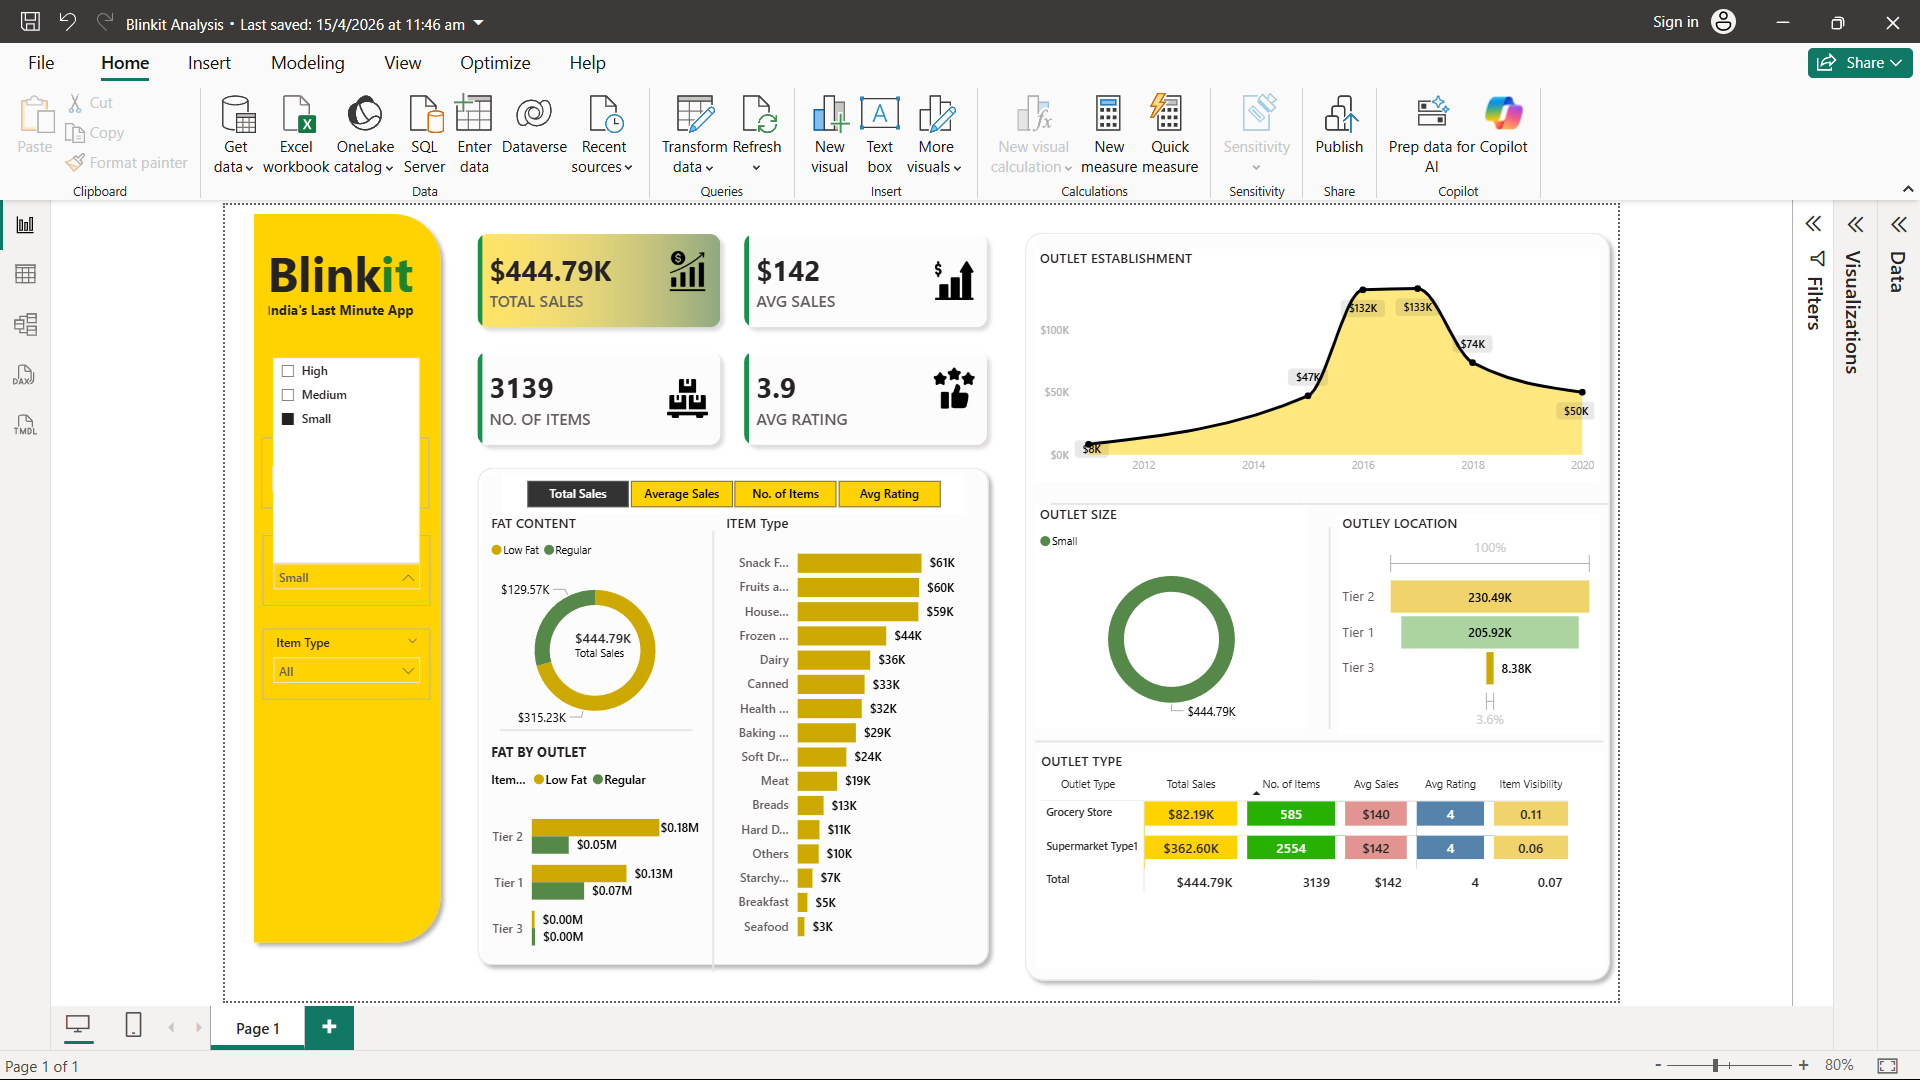

The page's visual inventory and layout, read from the dashboard file:
{"tool":"powerbi","page":{"name":"Page 1","canvas":[1400,800],"ordinal":0},"visuals":[{"type":"shape","box":[19.5,0,205.6,750.4],"z":0},{"type":"textbox","box":[37.5,30,169.6,78],"z":1000},{"type":"textbox","box":[37.5,91.6,169.6,30],"z":2000},{"type":"cardVisual","fields":{"Data":["BlinkIT Grocery Data.Total Sales","BlinkIT Grocery Data.Average Sales","BlinkIT Grocery Data.No. of Items","BlinkIT Grocery Data.Avg Rating"]},"box":[225.1,0,570.3,270.2],"z":3000},{"type":"shape","box":[244.6,255.1,531.3,517.8],"z":4000},{"type":"donutChart","title":"FAT CONTENT","fields":{"Y":["BlinkIT Grocery Data.Total Sales"],"Category":["BlinkIT Grocery Data.Item Fat Content"]},"box":[262.7,310.7,219.1,229.6],"z":5000},{"type":"slicer","fields":{"Values":["Metrics.Metrics"]},"box":[277.7,270.2,465.3,40.5],"z":6000},{"type":"cardVisual","fields":{"Data":["BlinkIT Grocery Data.Total Sales"]},"box":[322.7,400.7,120.1,81],"z":7000},{"type":"clusteredBarChart","title":"FAT BY OUTLET","fields":{"Y":["BlinkIT Grocery Data.Total Sales"],"Category":["BlinkIT Grocery Data.Outlet Location Type"],"Series":["BlinkIT Grocery Data.Item Fat Content"]},"box":[262.7,540.3,219.1,229.6],"z":8000},{"type":"shape","box":[276,515.1,193.3,25.4],"z":9000},{"type":"shape","box":[1072.1,290,16.5,225.1],"z":10000},{"type":"barChart","title":"ITEM Type","fields":{"Y":["BlinkIT Grocery Data.Total Sales"],"Category":["BlinkIT Grocery Data.Item Type"]},"box":[498.3,310.7,255.1,439.8],"z":11000},{"type":"shape","box":[794.9,19.1,605.4,769.4],"z":12000},{"type":"lineChart","title":"OUTLET ESTABLISHMENT","fields":{"Y":["BlinkIT Grocery Data.Total Sales"],"Category":["BlinkIT Grocery Data.Outlet Establishment Year"]},"box":[814,44.5,567.2,235.3],"z":13000},{"type":"shape","box":[814,527.8,571,22.9],"z":14000},{"type":"donutChart","title":"OUTLET SIZE","fields":{"Y":["BlinkIT Grocery Data.Total Sales"],"Category":["BlinkIT Grocery Data.Outlet Size"]},"box":[814,301.4,274.7,225.1],"z":15000},{"type":"shape","box":[1100.1,324.3,19.1,202.2],"z":16000},{"type":"shape","box":[482,328.1,16.5,442.6],"z":17000},{"type":"funnel","title":"OUTLEY LOCATION","fields":{"Y":["Sum(BlinkIT Grocery Data.Sales)"],"Category":["BlinkIT Grocery Data.Outlet Location Type"]},"box":[1117.9,310.3,263.3,221.3],"z":18000},{"type":"shape","box":[830.3,288.5,560.9,22.9],"z":19000},{"type":"pivotTable","title":"OUTLET TYPE","fields":{"Values":["BlinkIT Grocery Data.Total Sales","BlinkIT Grocery Data.No. of Items","BlinkIT Grocery Data.Average Sales","BlinkIT Grocery Data.Avg Rating","Avg(BlinkIT Grocery Data.Item Visibility)"],"Rows":["BlinkIT Grocery Data.Outlet Type"]},"box":[815.2,549.4,571,218.8],"z":20000},{"type":"slicer","fields":{"Values":["BlinkIT Grocery Data.Outlet Location Type"]},"box":[36.9,234,169.2,71.2],"z":21000},{"type":"slicer","fields":{"Values":["BlinkIT Grocery Data.Outlet Size"]},"box":[38.2,331.9,169.2,71.2],"z":22000},{"type":"slicer","fields":{"Values":["BlinkIT Grocery Data.Item Type"]},"box":[38.2,426.1,169.2,71.2],"z":23000},{"type":"textbox","box":[68.7,199.7,106.8,34.3],"z":24000}]}

Visuals, with their boxes on the page's 1400x800 design canvas (x1, y1, x2, y2). These are canvas units, not pixel positions in the 1920x1080 screenshot, which may show the page scaled, cropped or inside an application window:
shape: 20:0:225:750
textbox: 38:30:207:108
textbox: 38:92:207:122
cardVisual - BlinkIT Grocery Data.Total Sales x BlinkIT Grocery Data.Average Sales: 225:0:795:270
shape: 245:255:776:773
"FAT CONTENT" donutChart: 263:311:482:540
slicer - Metrics.Metrics: 278:270:743:311
cardVisual - BlinkIT Grocery Data.Total Sales: 323:401:443:482
"FAT BY OUTLET" clusteredBarChart: 263:540:482:770
shape: 276:515:469:540
shape: 1072:290:1089:515
"ITEM Type" barChart: 498:311:753:750
shape: 795:19:1400:788
"OUTLET ESTABLISHMENT" lineChart: 814:44:1381:280
shape: 814:528:1385:551
"OUTLET SIZE" donutChart: 814:301:1089:526
shape: 1100:324:1119:526
shape: 482:328:498:771
"OUTLEY LOCATION" funnel: 1118:310:1381:532
shape: 830:288:1391:311
"OUTLET TYPE" pivotTable: 815:549:1386:768
slicer - BlinkIT Grocery Data.Outlet Location Type: 37:234:206:305
slicer - BlinkIT Grocery Data.Outlet Size: 38:332:207:403
slicer - BlinkIT Grocery Data.Item Type: 38:426:207:497
textbox: 69:200:176:234
